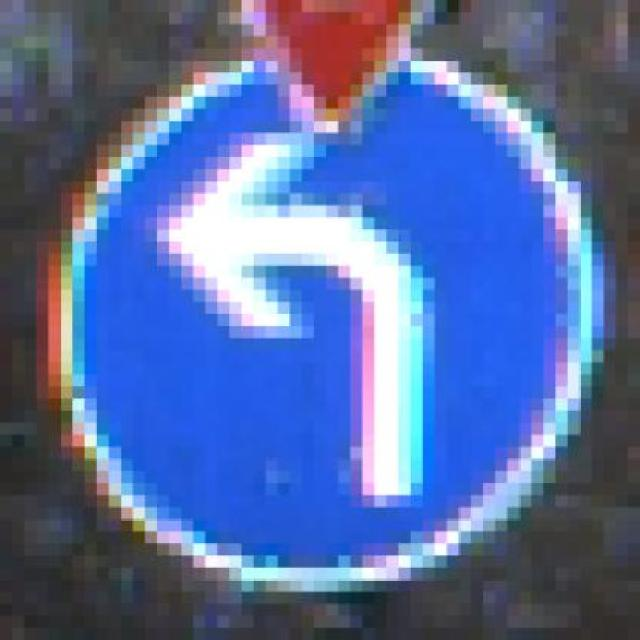Turn left ahead: (36, 48, 629, 604)
